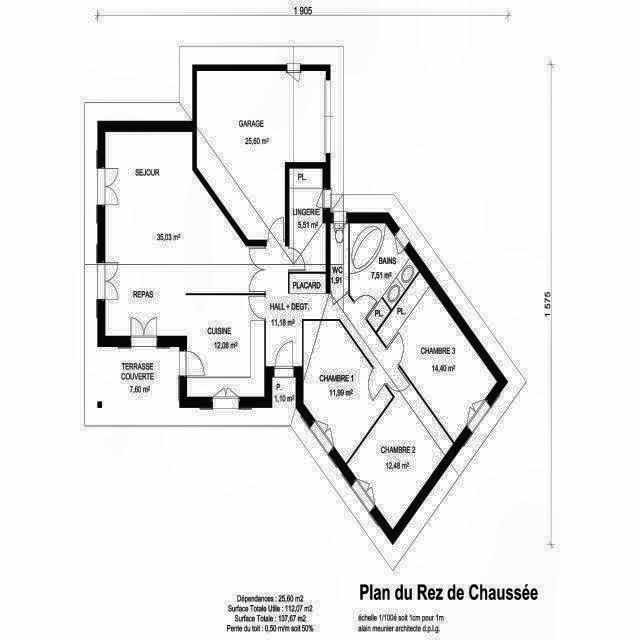room: (105, 132, 264, 397), (363, 272, 511, 442), (321, 368, 471, 529), (265, 304, 408, 463), (197, 71, 326, 240), (266, 242, 400, 384), (316, 207, 433, 332), (289, 169, 326, 272), (330, 223, 348, 292)
